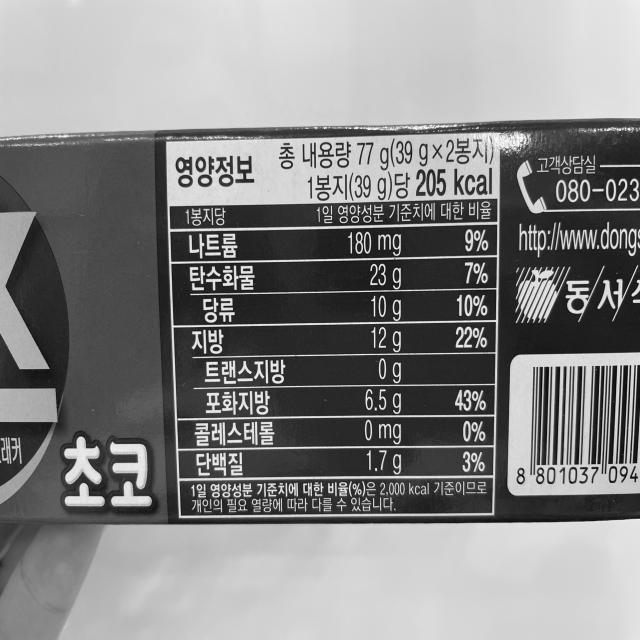Nutrition Label: (160, 126, 504, 534)
